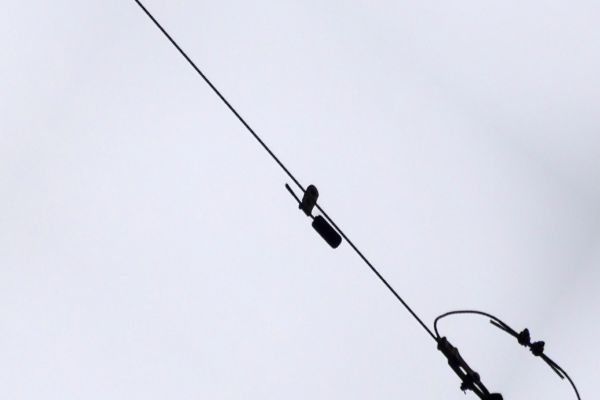damper_defect: (279, 176, 345, 249)
